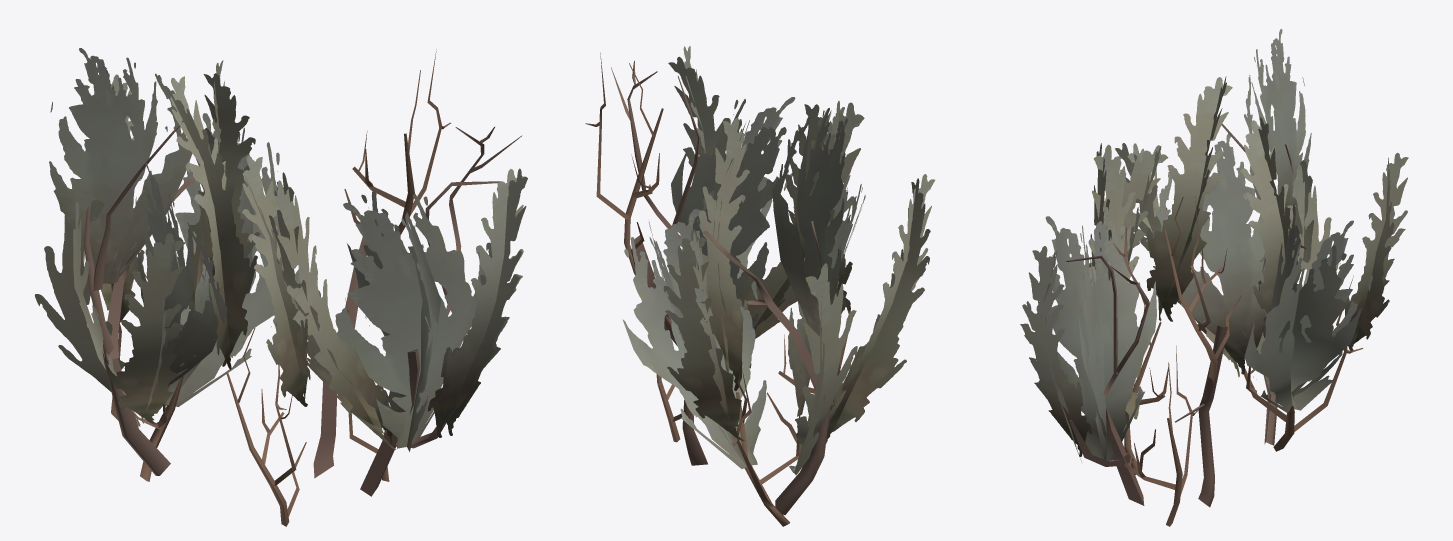
3 views of the same model, side by side, from view 1: azimuth 30°, elevation 25°; view 2: azimuth 150°, elevation 25°; view 3: azimuth 270°, elevation 25° (orthographic). The views are drawn at different scales.
Visible parts, largest first — view 1: body0_model0_lod0_mesh0; view 2: body0_model0_lod0_mesh0; view 3: body0_model0_lod0_mesh0.
Part boxes in pixels (x1,y1,x2,y2): body0_model0_lod0_mesh0: [35, 48, 527, 526]; body0_model0_lod0_mesh0: [585, 46, 935, 526]; body0_model0_lod0_mesh0: [1020, 29, 1408, 526].
Size of the model in its own units: 57.61 by 68.27 by 64.18.
1 material, 1 textured.
